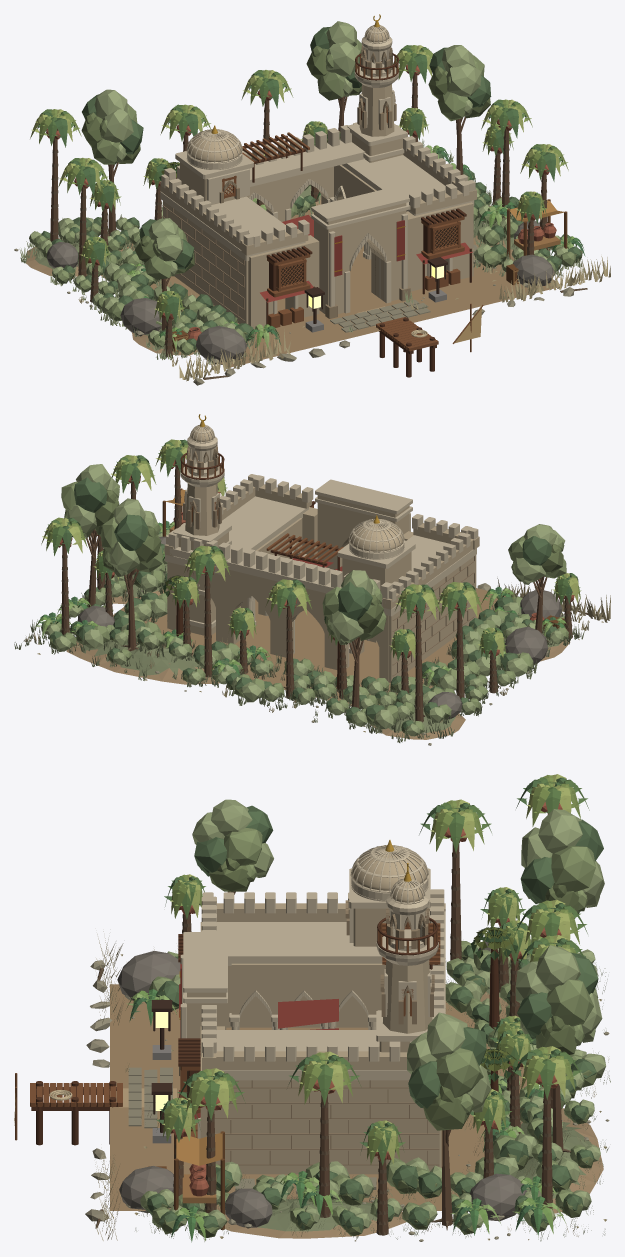
Rendered from cairo.glb.
3 renders of one model, top to bottom at view 1: azimuth 30°, elevation 25°; view 2: azimuth 150°, elevation 25°; view 3: azimuth 270°, elevation 25°, orthographic. The views are drawn at different scales.
Visible parts, largest first — view 1: cairo; view 2: cairo; view 3: cairo.
Part boxes in pixels (x1,y1,x2,y2): cairo: (14, 14, 610, 385); cairo: (14, 414, 610, 745); cairo: (14, 774, 610, 1242).
Size of the model in its own units: 7.78 by 4.09 by 6.68.
